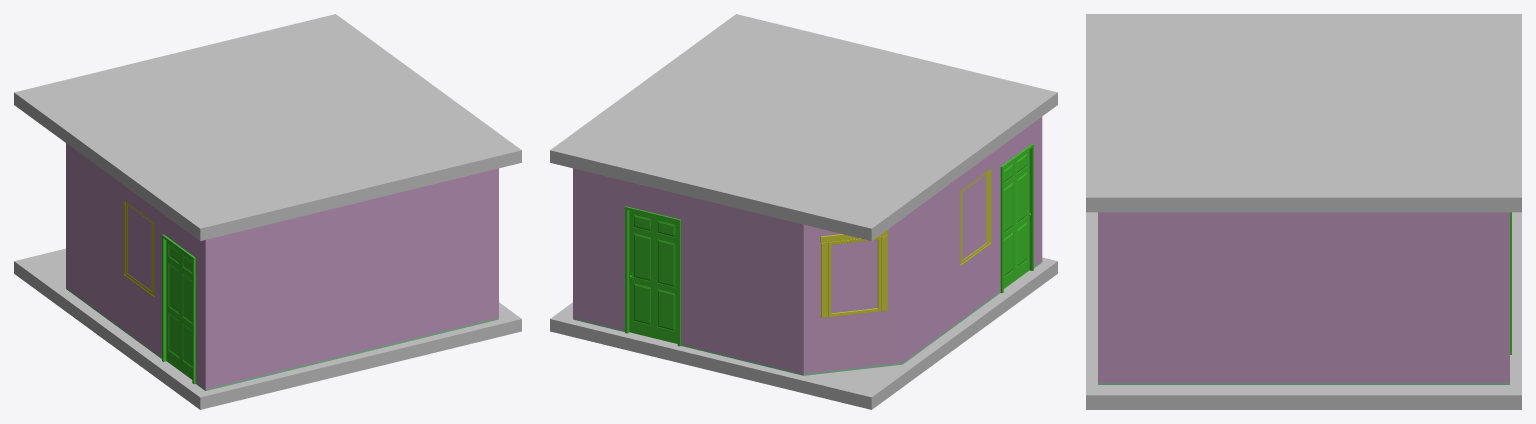
Rendered from FloorPlan6_physics.fbx.
The picture shows the model from 3 angles, left to right: view 1: azimuth 30°, elevation 25°; view 2: azimuth 150°, elevation 25°; view 3: azimuth 270°, elevation 25°; orthographic projection. The views are drawn at different scales.
Parts seen in each view (by area): view 1: Ceiling, StandardWallSize, Floor, StandardDoor1 (2), WindowGlass, StandardDoorFrame1 (2), StandardWindow1 (2); view 2: Ceiling, StandardWallSize, Floor, StandardDoor1, WindowGlass, StandardDoor1 (2), StandardDoorFrame1, WindowTreatment1, StandardDoorFrame1 (2), StandardWindow1, StandardWindow1 (2); view 3: Ceiling, StandardWallSize, Floor.
Boxes of the visible parts, x1,y1,x2,y2 form: Ceiling: [14, 14, 521, 241]; StandardWallSize: [66, 143, 498, 390]; Floor: [14, 248, 521, 409]; StandardDoor1 (2): [166, 241, 192, 379]; WindowGlass: [127, 205, 151, 290]; StandardDoorFrame1 (2): [162, 234, 195, 383]; StandardWindow1 (2): [126, 202, 153, 295]; Ceiling: [550, 14, 1057, 241]; StandardWallSize: [573, 117, 1042, 375]; Floor: [550, 257, 1057, 409]; StandardDoor1: [629, 210, 677, 343]; WindowGlass: [831, 174, 986, 313]; StandardDoor1 (2): [1003, 150, 1029, 288]; StandardDoorFrame1: [625, 206, 680, 346]; WindowTreatment1: [820, 229, 888, 317]; StandardDoorFrame1 (2): [1000, 143, 1033, 293]; StandardWindow1: [828, 236, 881, 317]; StandardWindow1 (2): [960, 171, 988, 264]; Ceiling: [1086, 14, 1521, 212]; StandardWallSize: [1098, 212, 1509, 384]; Floor: [1086, 212, 1521, 409].
Size of the model in its own units: 539 by 290 by 540.
